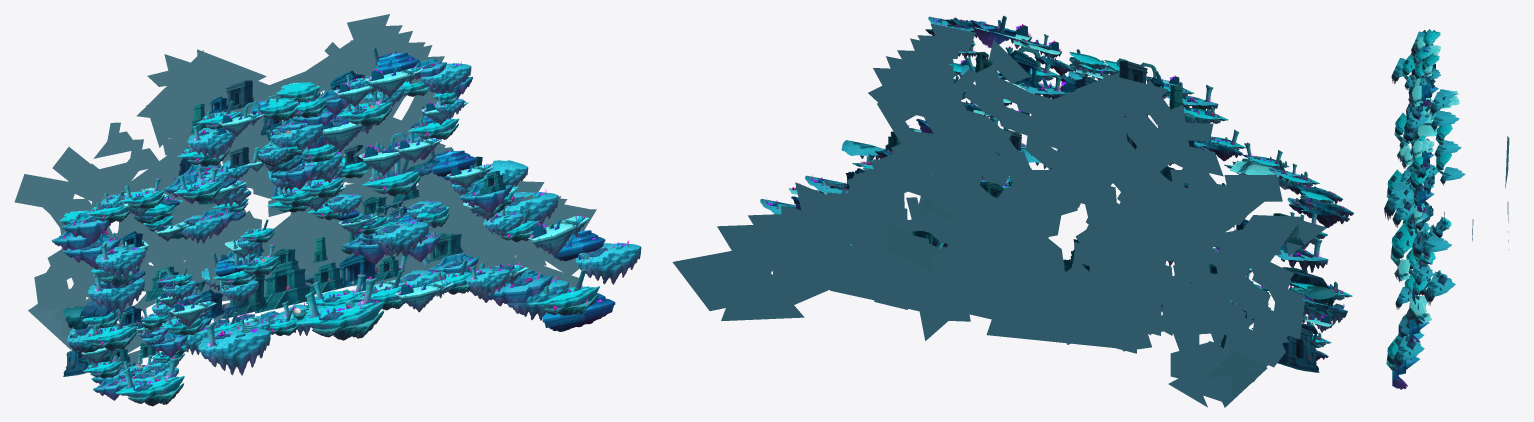
Rendered from Level3Export.fbx.
3 renders of one model, left to right at view 1: azimuth 30°, elevation 25°; view 2: azimuth 150°, elevation 25°; view 3: azimuth 270°, elevation 25°, orthographic. The views are drawn at different scales.
Visible parts, largest first — view 1: Mid, Background, Active, Far, Set.149, Set.150, Set.142, Set.153, Set.138, Set.145, Set.123, Set.137 (+38 smaller); view 2: Far, Background, Mid, Active, Set.099, Set.003, Set.001; view 3: Active, Mid, Set.149, Set.150, Set.142, Set.123, Set.140, Set.145, Set.131, Set.095, Set.148, Set.138 (+21 smaller).
Boxes of the visible parts, box(x1,y1,x2,y2) form: Mid: box(63, 45, 582, 376); Background: box(40, 31, 596, 352); Active: box(59, 75, 558, 378); Far: box(14, 14, 589, 349); Set.149: box(295, 276, 384, 340); Set.150: box(198, 322, 270, 375); Set.142: box(575, 239, 641, 284); Set.153: box(115, 356, 184, 406); Set.138: box(528, 269, 599, 315); Set.145: box(372, 220, 428, 256); Set.123: box(528, 213, 589, 256); Set.137: box(485, 270, 552, 314); Far: box(672, 56, 1281, 407); Background: box(717, 38, 1302, 382); Mid: box(773, 23, 1326, 372); Active: box(805, 42, 1342, 346); Set.099: box(969, 15, 1017, 47); Set.003: box(1303, 297, 1347, 328); Set.001: box(1276, 237, 1328, 272); Active: box(1401, 29, 1455, 306); Mid: box(1424, 65, 1465, 185); Set.149: box(1390, 223, 1416, 266); Set.150: box(1384, 182, 1414, 220); Set.142: box(1393, 334, 1424, 369); Set.123: box(1405, 289, 1431, 326); Set.140: box(1392, 356, 1419, 389); Set.145: box(1392, 197, 1414, 227); Set.131: box(1430, 92, 1451, 115); Set.095: box(1404, 110, 1427, 134); Set.148: box(1394, 259, 1410, 282); Set.138: box(1386, 336, 1398, 371).
Bounding box in the file's own units: 20510 × 10673 × 5183.
